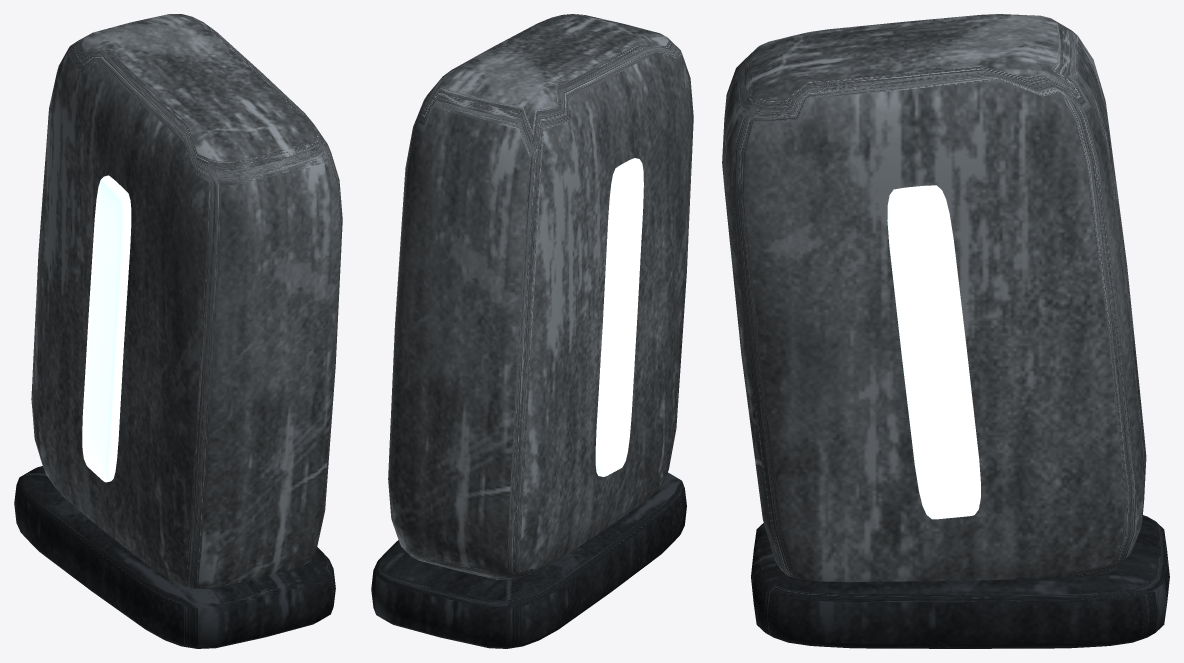
File: mr6_cell.glb
3 renders of one model, left to right at view 1: azimuth 30°, elevation 25°; view 2: azimuth 150°, elevation 25°; view 3: azimuth 270°, elevation 25°, orthographic. The views are drawn at different scales.
Visible parts, largest first — view 1: mr6_cell; view 2: mr6_cell; view 3: mr6_cell.
Boxes of the visible parts, <box> form: mr6_cell: <box>14,14,342,648</box>; mr6_cell: <box>371,14,693,648</box>; mr6_cell: <box>722,14,1169,648</box>.
Size of the model in its own units: 0.034 by 0.0972 by 0.0684.
2 materials, 1 textured.
